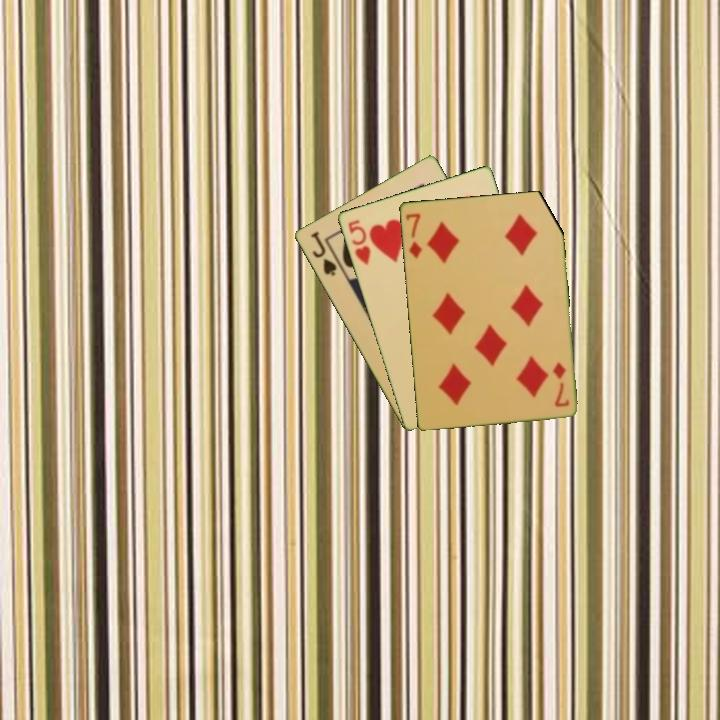5h: (344, 216, 373, 268)
7d: (549, 358, 572, 410), (402, 210, 425, 261)
Js: (307, 228, 339, 279)
